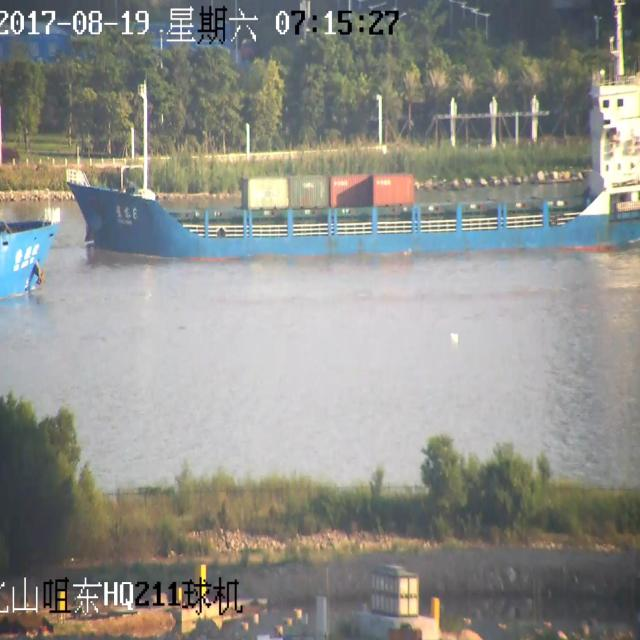cargoship: (75, 42, 640, 282)
